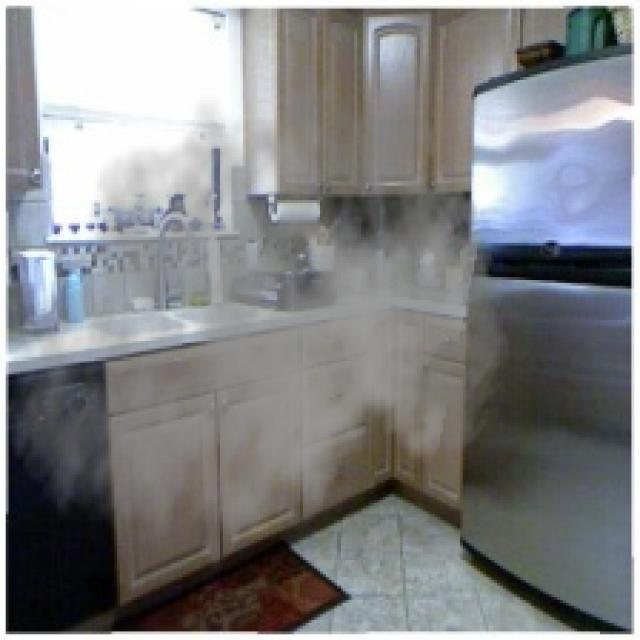Smoke: (2, 57, 518, 592)
